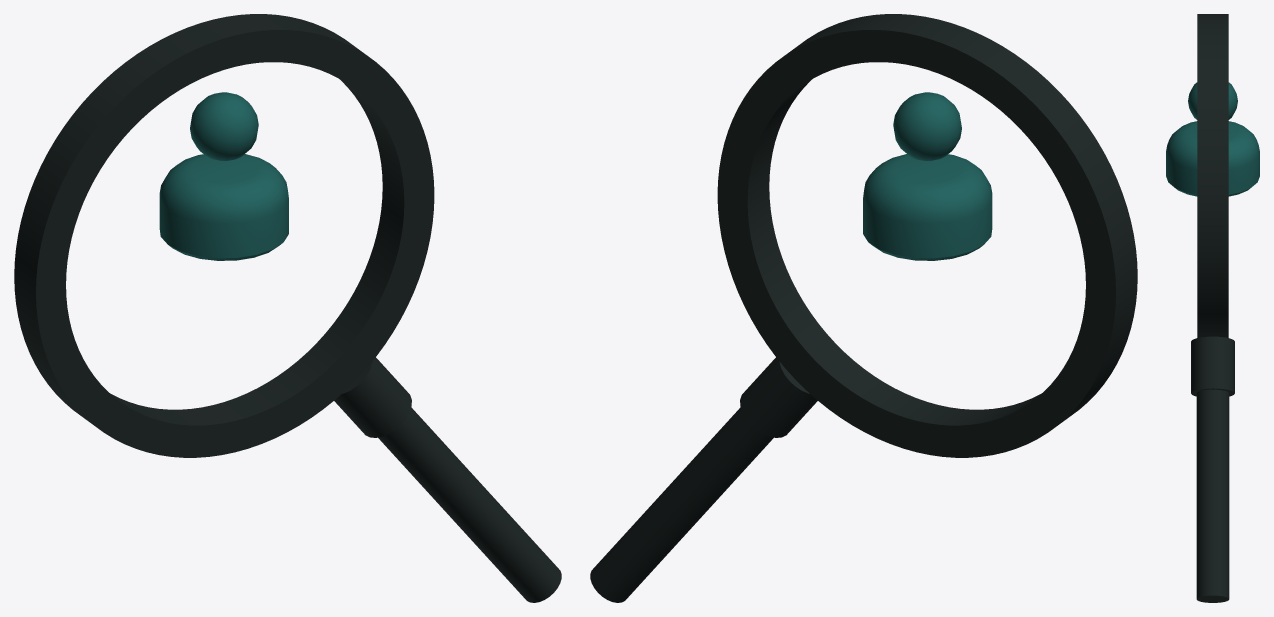
The model's file is coalesce.glb.
3 views of the same model, side by side, from view 1: azimuth 30°, elevation 25°; view 2: azimuth 150°, elevation 25°; view 3: azimuth 270°, elevation 25° (orthographic). The views are drawn at different scales.
Visible parts, largest first — view 1: MagnifierRim, Person, MagnifierHandle, MagnifierCollar; view 2: MagnifierRim, Person, MagnifierHandle, MagnifierCollar; view 3: MagnifierRim, MagnifierHandle, Person, MagnifierCollar.
Part boxes in pixels (x1=…): MagnifierRim: x1=14, y1=14, x2=434, y2=457; Person: x1=159, y1=92, x2=288, y2=260; MagnifierHandle: x1=378, y1=407, x2=561, y2=602; MagnifierCollar: x1=334, y1=357, x2=411, y2=437; MagnifierRim: x1=717, y1=14, x2=1137, y2=457; Person: x1=863, y1=92, x2=992, y2=260; MagnifierHandle: x1=590, y1=407, x2=773, y2=602; MagnifierCollar: x1=740, y1=357, x2=817, y2=437; MagnifierRim: x1=1197, y1=14, x2=1228, y2=337; MagnifierHandle: x1=1196, y1=389, x2=1229, y2=602; Person: x1=1166, y1=82, x2=1259, y2=196; MagnifierCollar: x1=1191, y1=336, x2=1234, y2=396.
Bounding box in the file's own units: 2.84 × 3.29 × 0.6.
